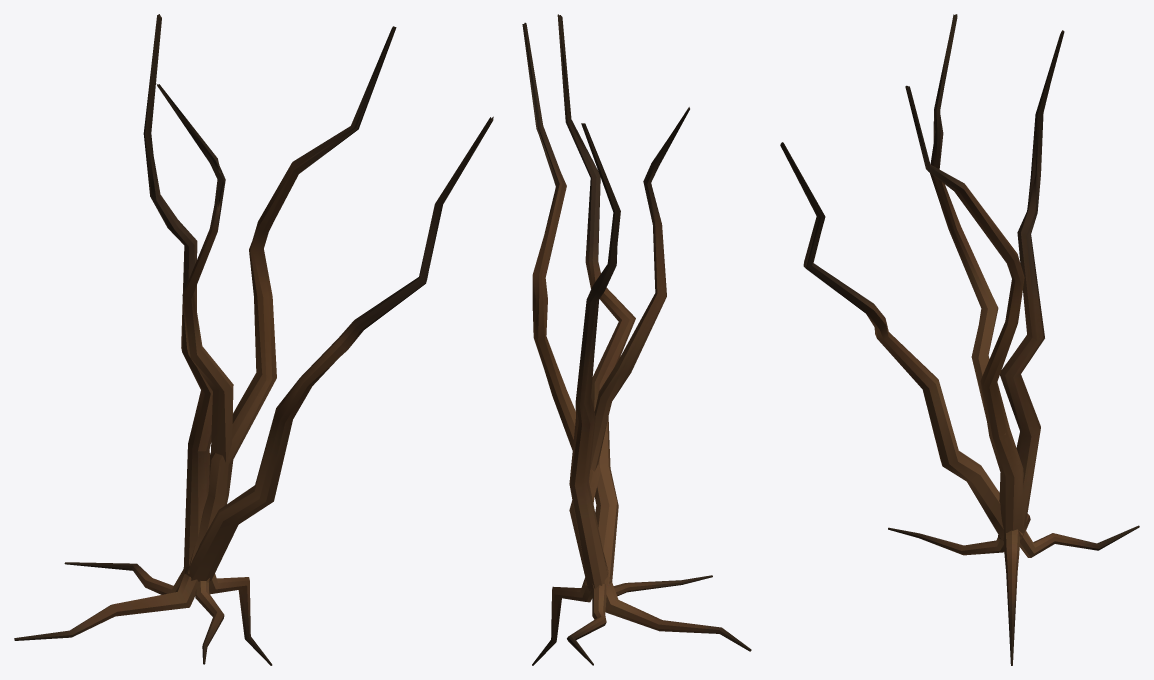
The model's file is arbre_mort.FBX.
The picture shows the model from 3 angles, left to right: view 1: azimuth 30°, elevation 25°; view 2: azimuth 150°, elevation 25°; view 3: azimuth 270°, elevation 25°; orthographic projection. The views are drawn at different scales.
Visible parts, largest first — view 1: Tree; view 2: Tree; view 3: Tree.
Part boxes in pixels (box(x1,y1,x2,y2)): Tree: box(14, 14, 493, 665); Tree: box(522, 14, 751, 665); Tree: box(780, 14, 1139, 665).
Bounding box in the file's own units: 1960 × 3575 × 1911.
